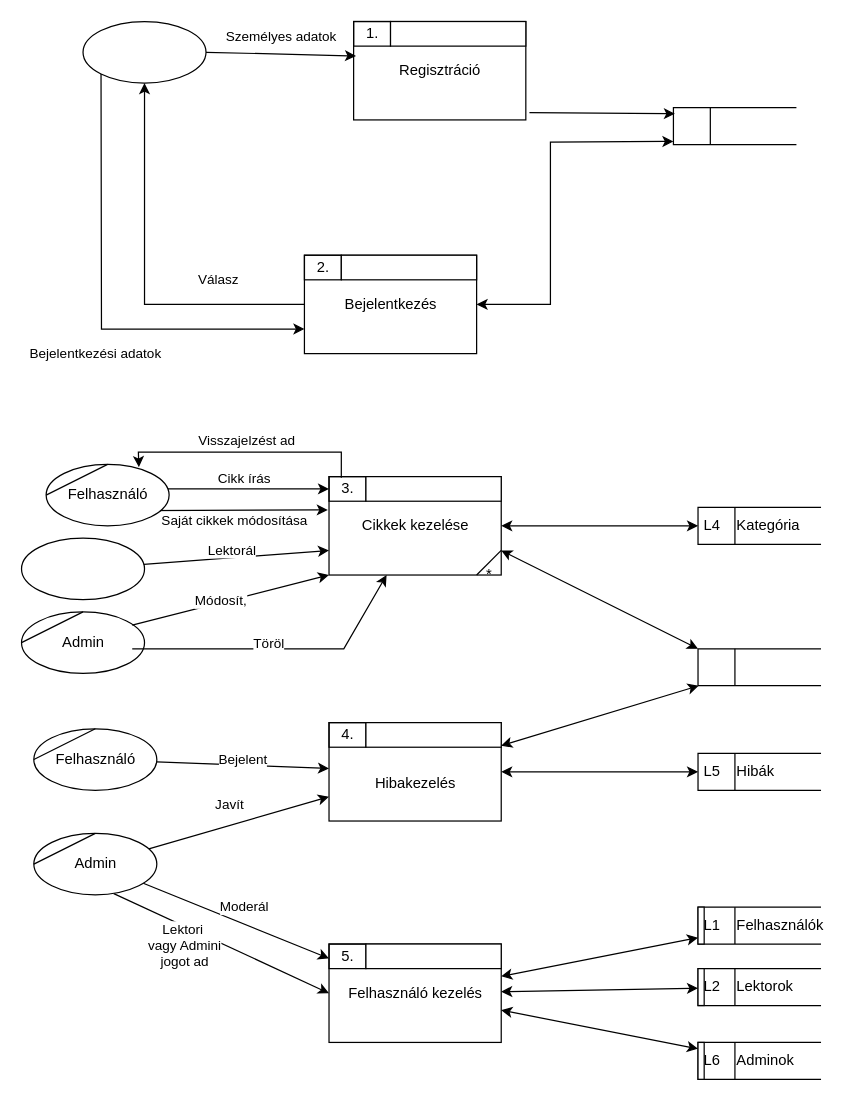
The diagram is 845 pixels wide and 1101 high, and some of its shapes have lost their labels. The centre of each missing label's shape, as x and y in pixels:
"L1 Felhasználó" belongs at pixel 734 125.
"L3 Cikkek" belongs at pixel 759 667.
"Lektor" belongs at pixel 82 568.
"Látogató" belongs at pixel 144 51.
